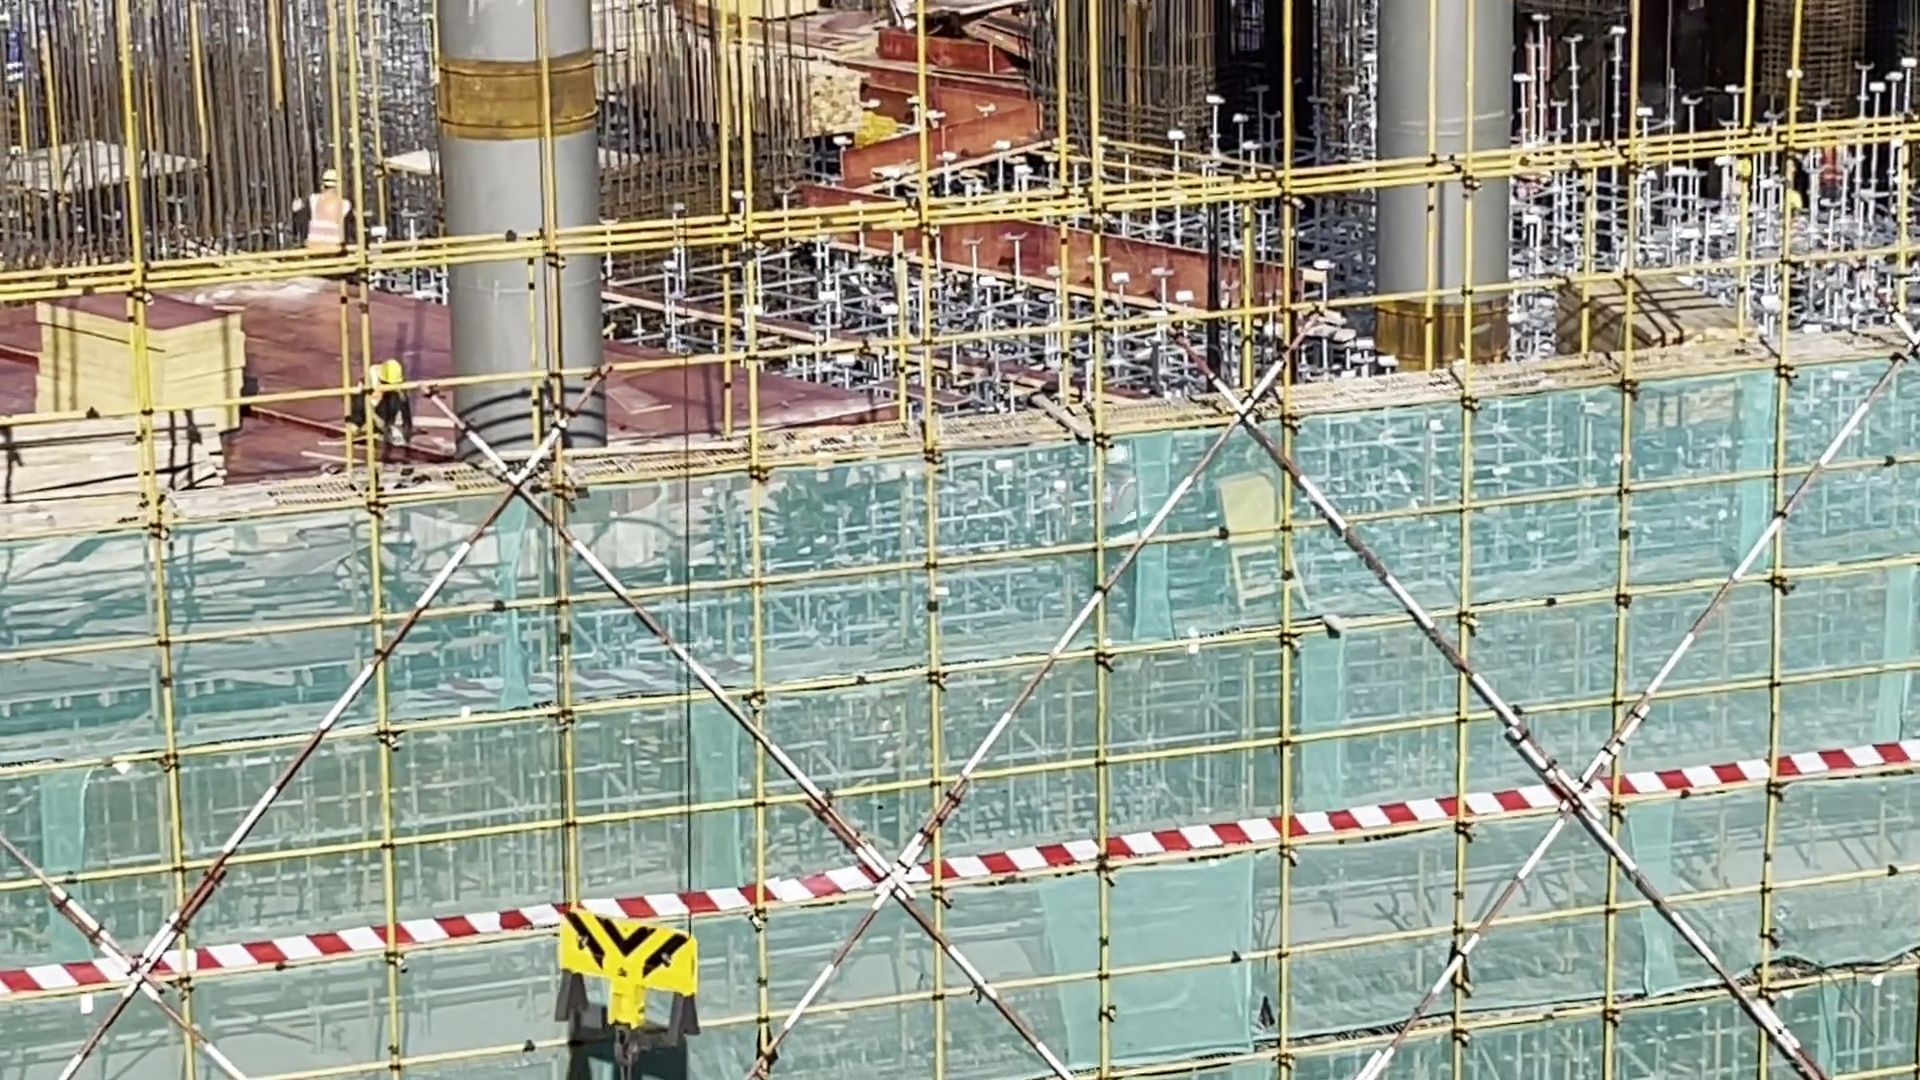board: (39, 281, 247, 439)
hook: (554, 914, 700, 1045)
person: (348, 350, 416, 454), (290, 158, 355, 254)
vest: (306, 192, 346, 244)
wood: (1567, 291, 1765, 360)
